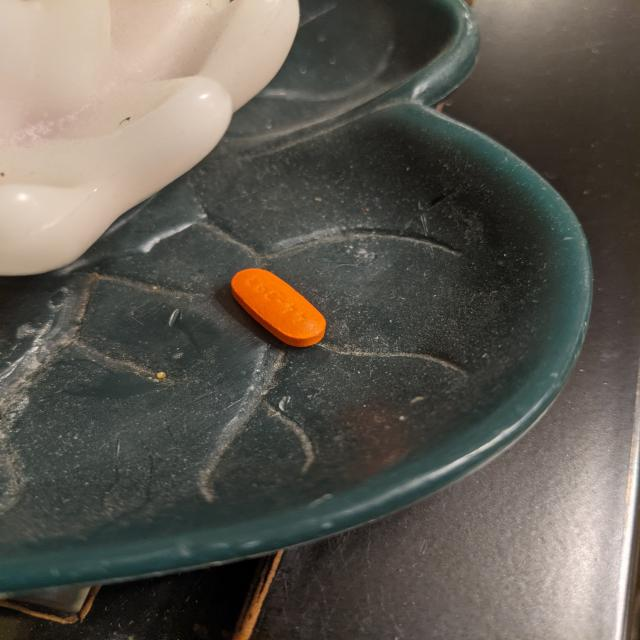non-organic waste: (229, 267, 326, 348)
